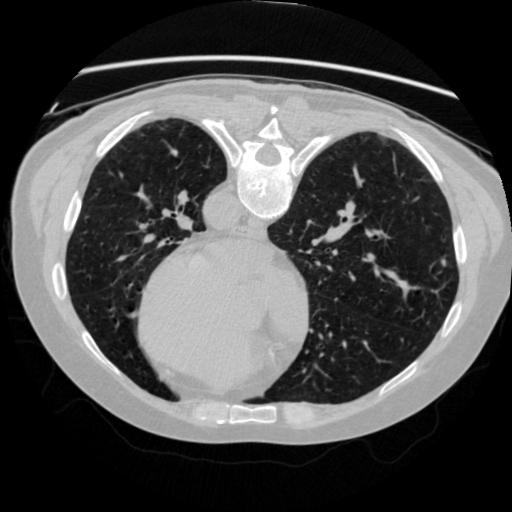nodule: (440, 258, 452, 270)
